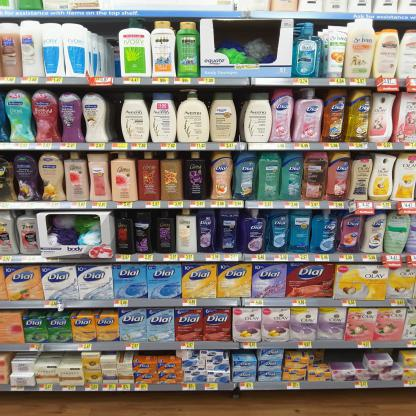Void: (101, 22, 118, 78), (215, 24, 277, 36), (322, 346, 360, 365)
